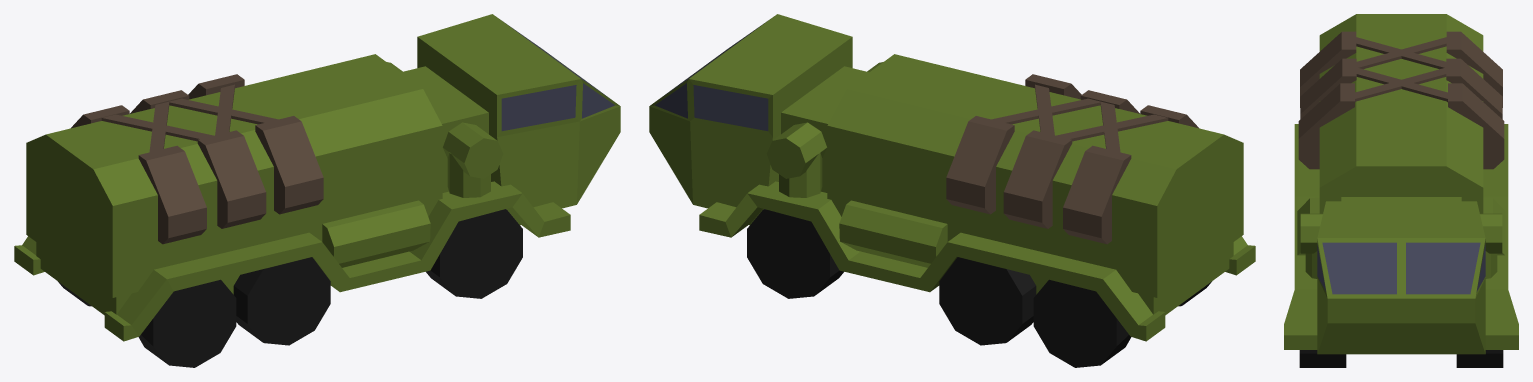
The model's file is truck.fbx.
The picture shows the model from 3 angles, left to right: view 1: azimuth 30°, elevation 25°; view 2: azimuth 150°, elevation 25°; view 3: azimuth 270°, elevation 25°; orthographic projection. The views are drawn at different scales.
Visible parts, largest first — view 1: Truck; view 2: Truck; view 3: Truck.
Part boxes in pixels (x1,y1,x2,y2): Truck: (14,14,620,367); Truck: (649,14,1255,367); Truck: (1284,14,1518,367).
Size of the model in its own units: 934 by 349 by 391.
